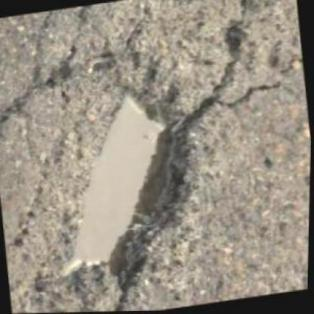Hueco: (32, 71, 218, 311)
